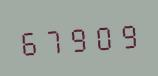nine: (66, 20, 89, 55), (114, 17, 137, 51)
seven: (42, 22, 65, 56)
six: (18, 24, 41, 58)
zero: (90, 19, 113, 53)
